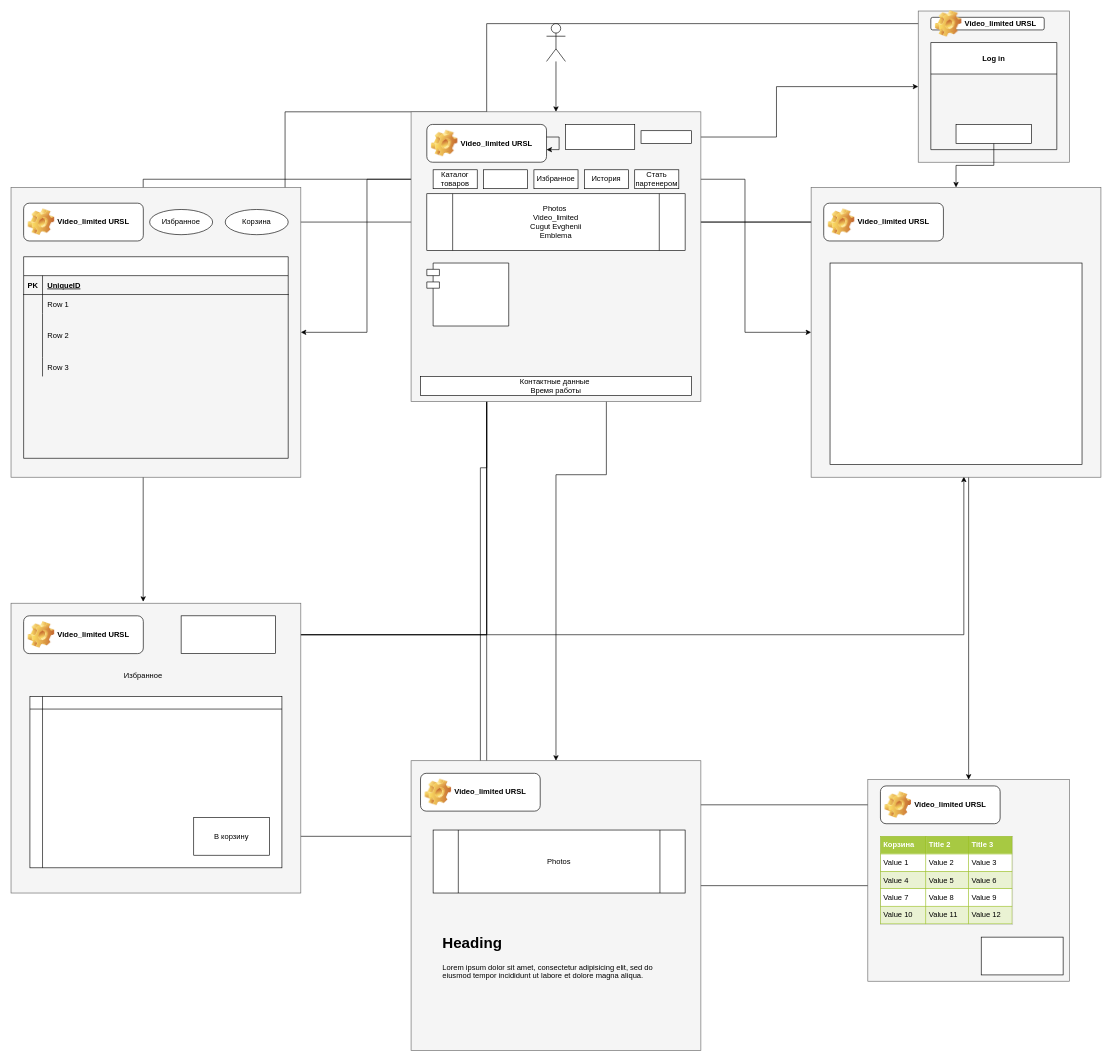
Image size: 1112x1062. Some labels were removed from this diagram. Here are the shapes that lost their labels. From the top down, the box of each, then its label:
(546, 23, 565, 61): Actor
(565, 124, 635, 150): Вход в личный кабинет
(640, 130, 691, 143): Смена языка
(955, 124, 1032, 143): Зарегистрироваться как инвестор
(483, 169, 528, 189): Установка и доставка
(426, 262, 509, 326): Sail...
(23, 256, 288, 458): Price
(829, 262, 1082, 465): Условия становления инвестором или партнером компании
(180, 615, 276, 654): Кнопка поддержки
(981, 936, 1063, 975): Сделать заказ, Отправляется запрос на почту компании и клиента
